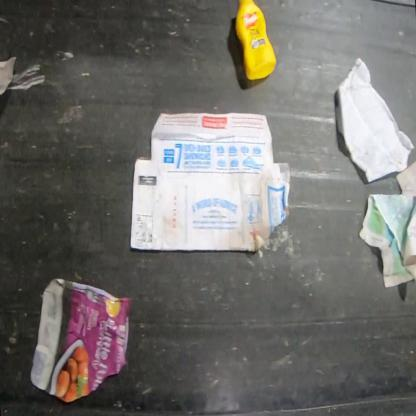cardboard: (130, 112, 292, 252)
rigid_plastic: (234, 0, 276, 80)
soft_plastic: (29, 276, 132, 404)
